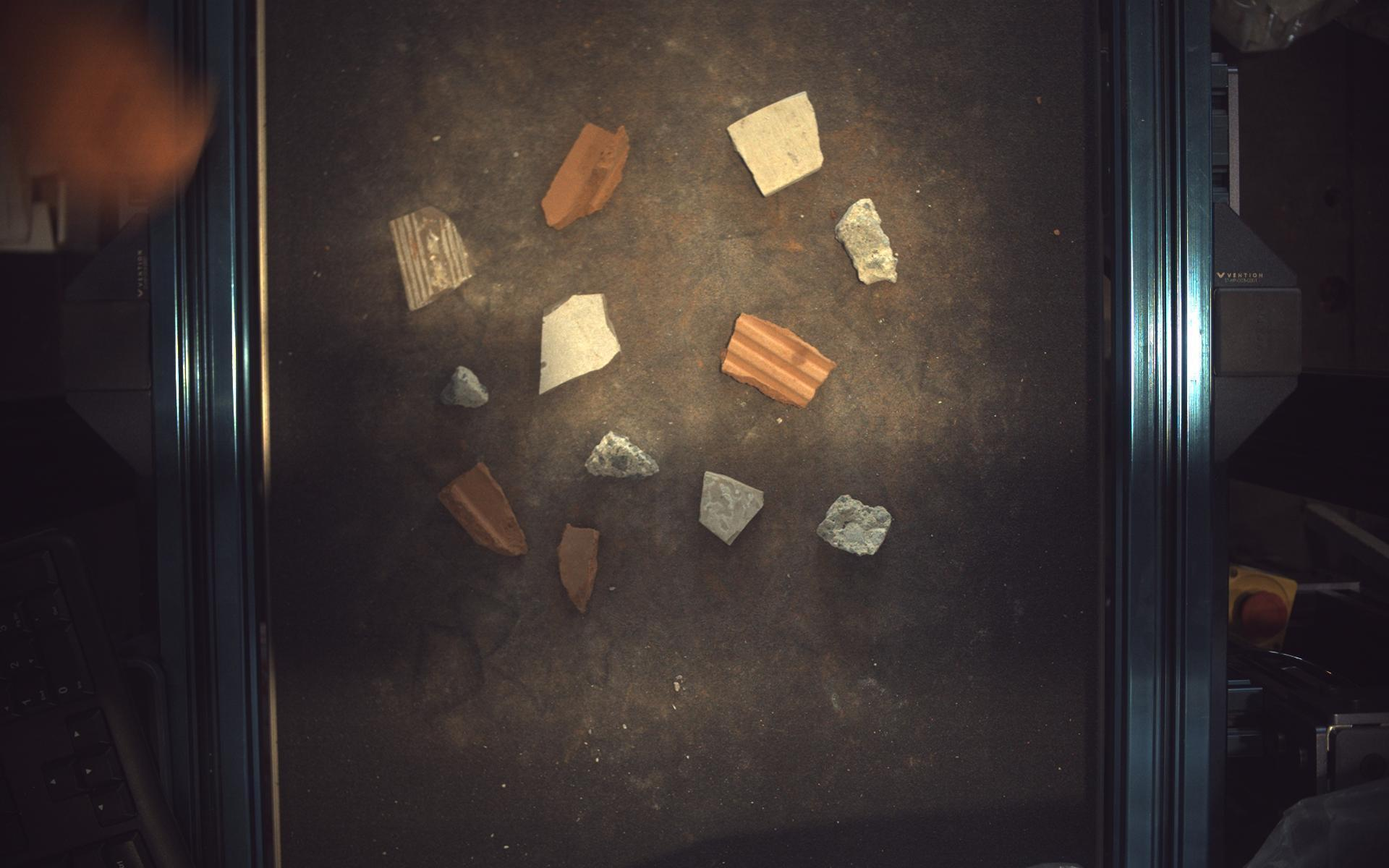brick: (721, 313, 838, 407), (542, 122, 630, 229), (439, 462, 528, 557), (558, 524, 600, 614)
concrete: (836, 197, 899, 284), (819, 495, 893, 556), (585, 431, 660, 478), (440, 366, 489, 408)
tile: (729, 90, 824, 195), (389, 205, 473, 310), (541, 294, 621, 394), (701, 472, 765, 546)
